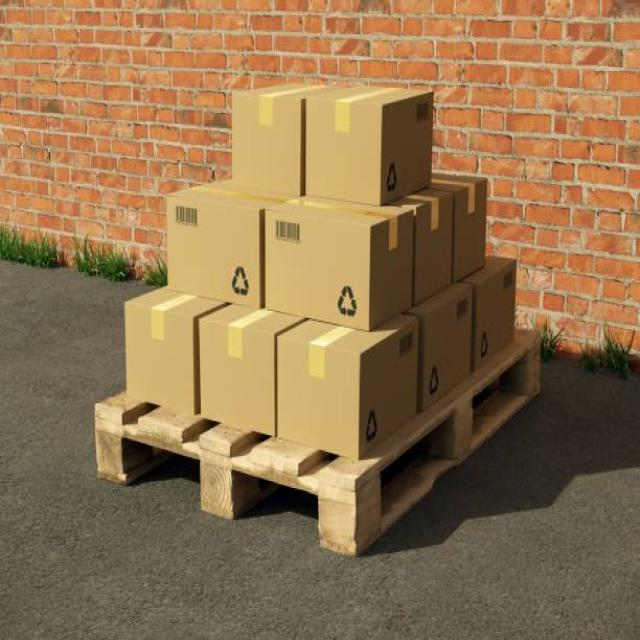Wooden-Pallets: (92, 327, 543, 565)
